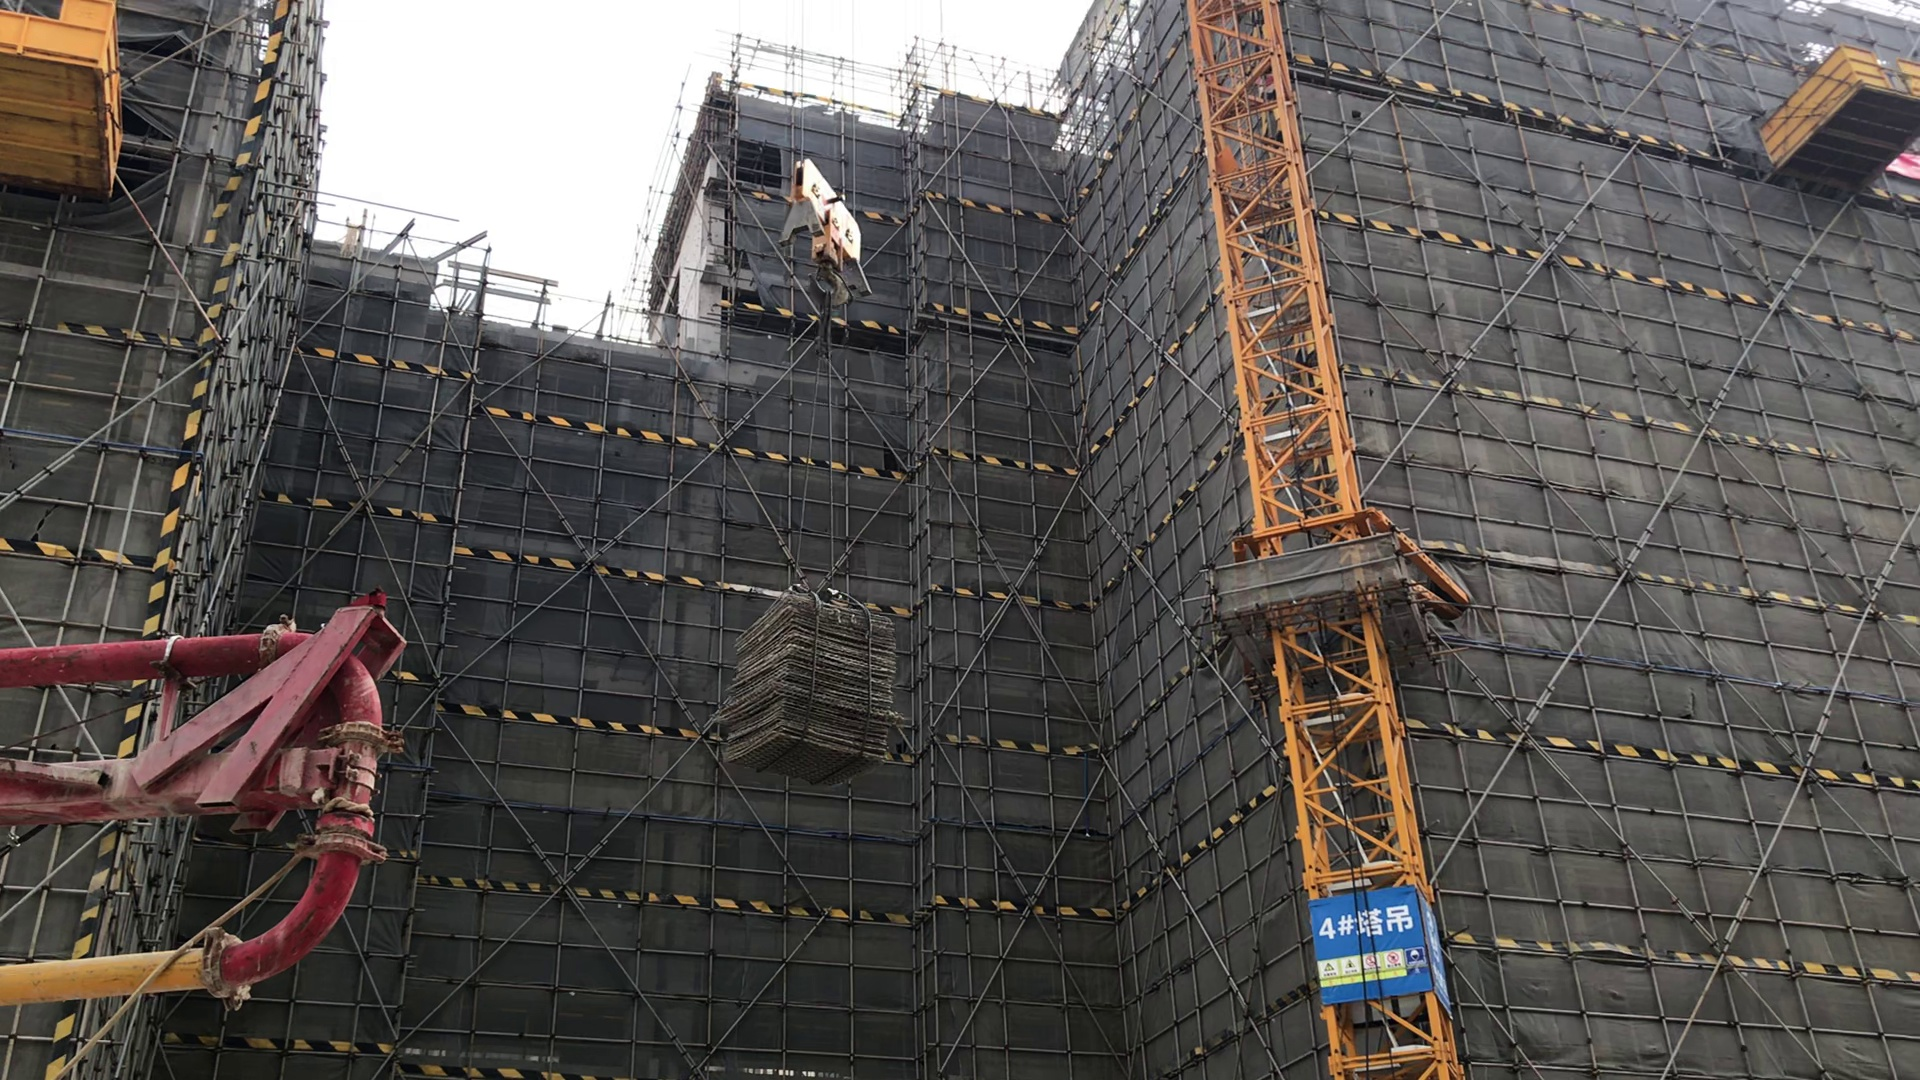hook: (770, 150, 876, 306)
slogan: (1317, 906, 1425, 982)
